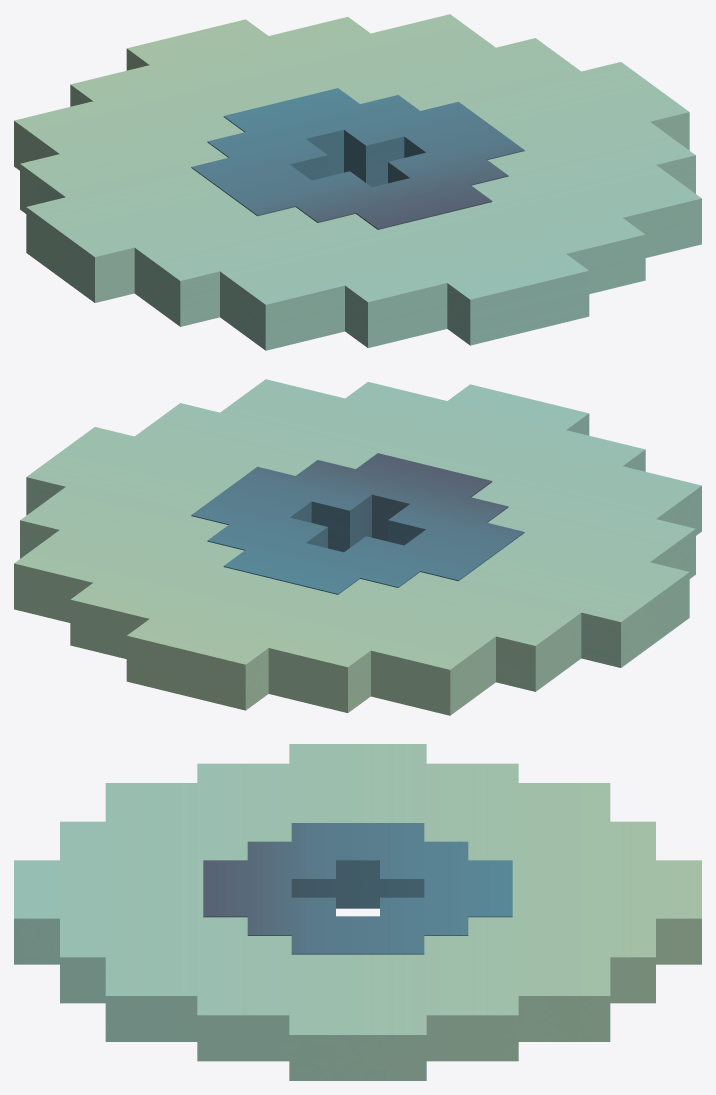
Rendered from CD-Rom.fbx.
3 renders of one model, top to bottom at view 1: azimuth 30°, elevation 25°; view 2: azimuth 150°, elevation 25°; view 3: azimuth 270°, elevation 25°, orthographic.
Visible parts, largest first — view 1: Cylinder; view 2: Cylinder; view 3: Cylinder.
Part boxes in pixels (x1,y1,x2,y2): Cylinder: [14, 14, 701, 350]; Cylinder: [14, 379, 701, 715]; Cylinder: [14, 744, 701, 1080].
Size of the model in its own units: 143 by 11.01 by 143.
